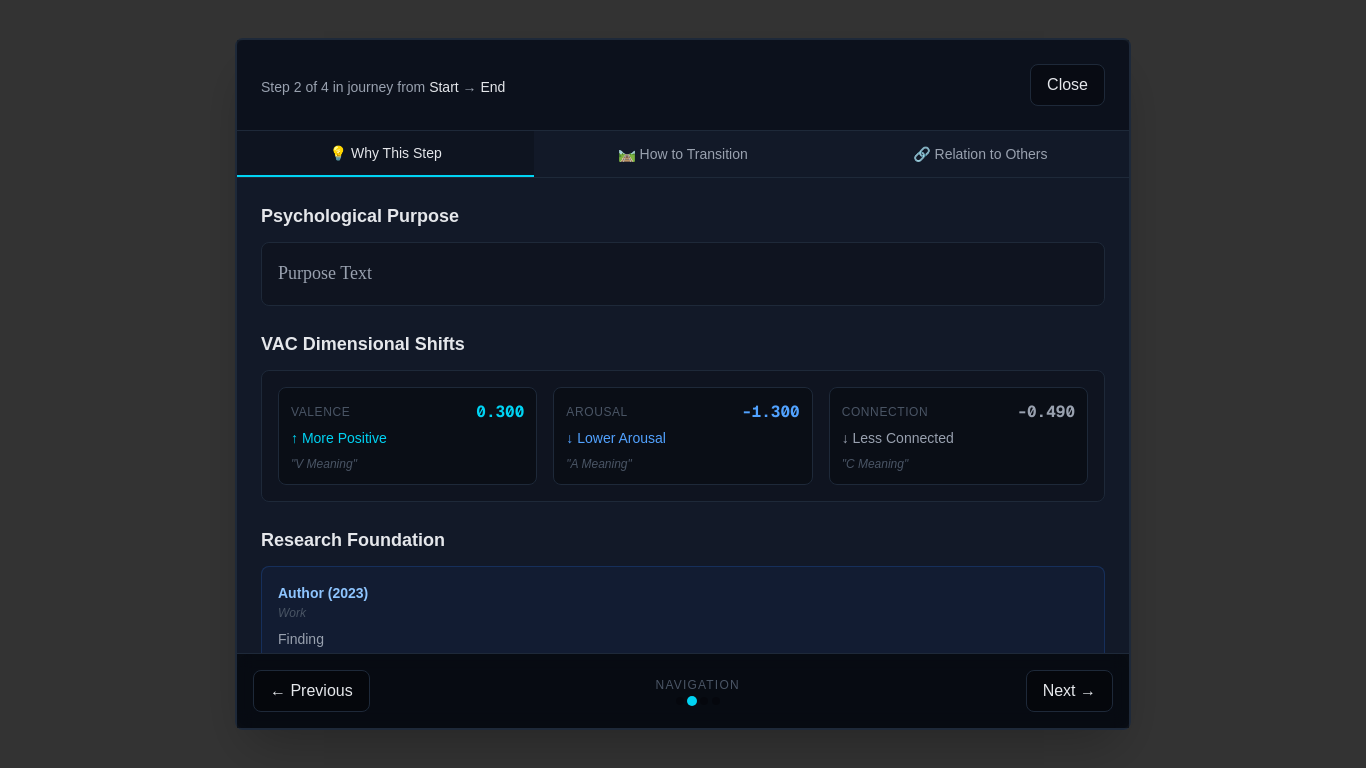
WaypointDetailModal › Rich Content Rendering & Logic › renders Strategy tab content
Click the tab "🛤️ How to Transition" at (683,154), box [534,131,832,177]
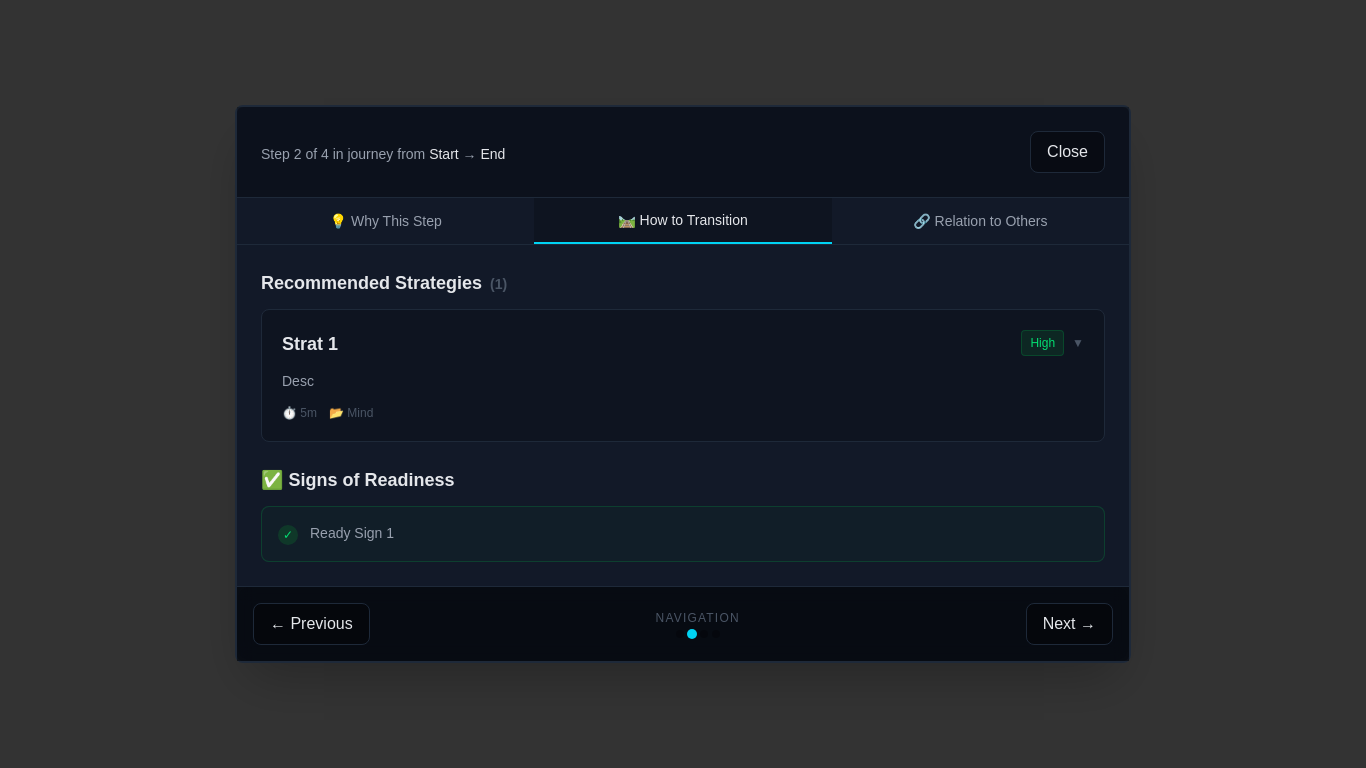
Result: the heading "Strat 1" is shown at [282,330,338,358]
Result: the text "High" is shown at [1021,330,1064,356]
Result: the text "⏱️ 5m" is shown at [282,405,317,421]
